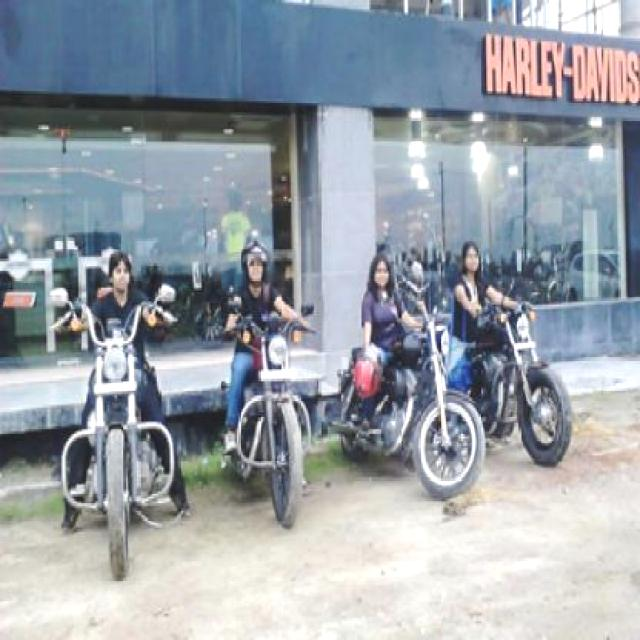With Helmet: (235, 236, 274, 293)
Without Helmet: (102, 243, 140, 299), (366, 243, 394, 294), (459, 231, 486, 277)
